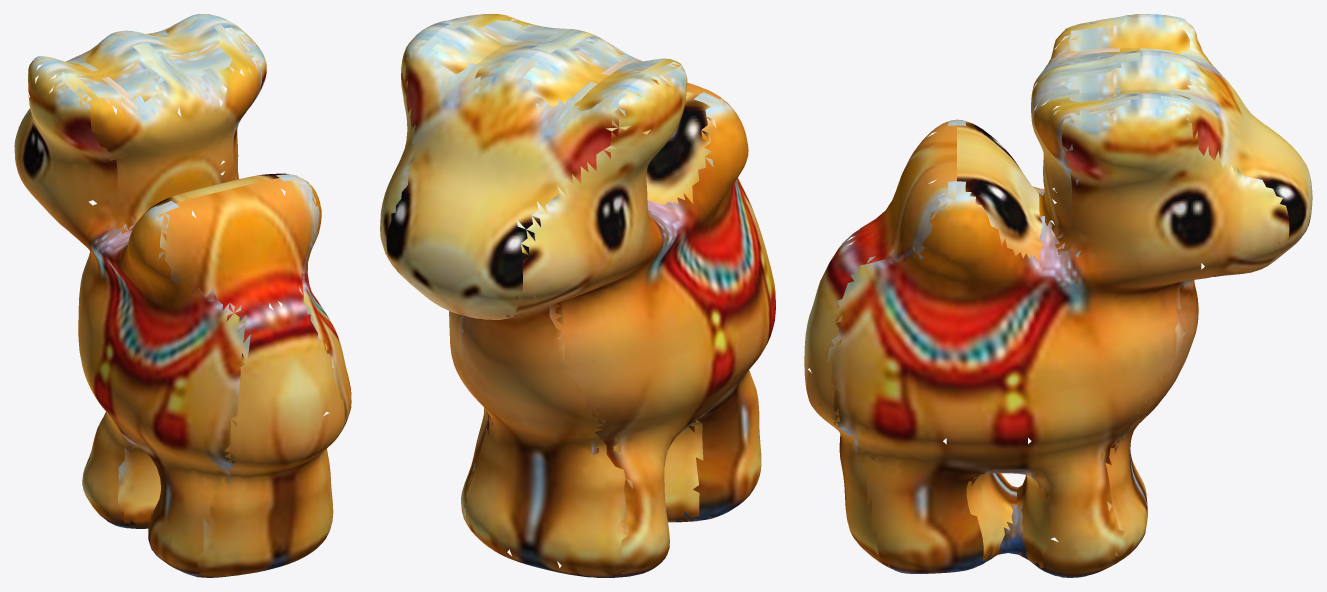
File: Chameau.glb
3 views of the same model, side by side, from view 1: azimuth 30°, elevation 25°; view 2: azimuth 150°, elevation 25°; view 3: azimuth 270°, elevation 25° (orthographic). The views are drawn at different scales.
Visible parts, largest first — view 1: Chameau; view 2: Chameau; view 3: Chameau.
Boxes of the visible parts, x1,y1,x2,y2 form: Chameau: [14, 14, 351, 577]; Chameau: [380, 14, 775, 577]; Chameau: [804, 14, 1312, 577].
Size of the model in its own units: 2.07 by 4.13 by 3.88.
Materials: 1 (1 with a texture image).
